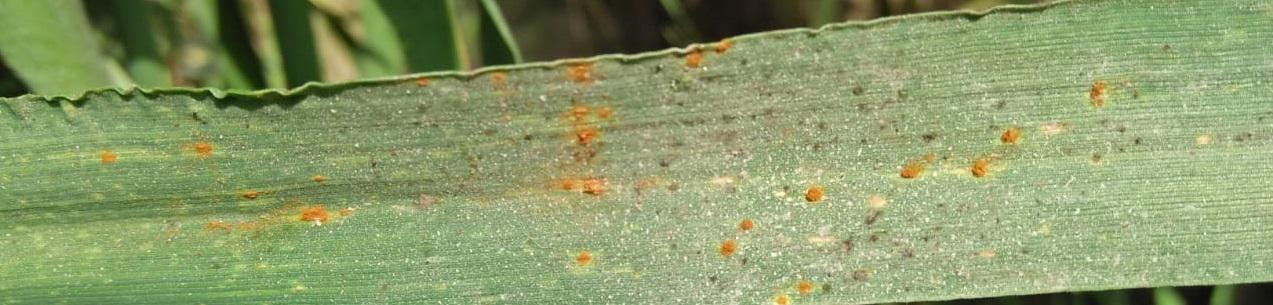Wheat: (514, 84, 887, 299), (93, 125, 487, 294), (900, 77, 1141, 210)
